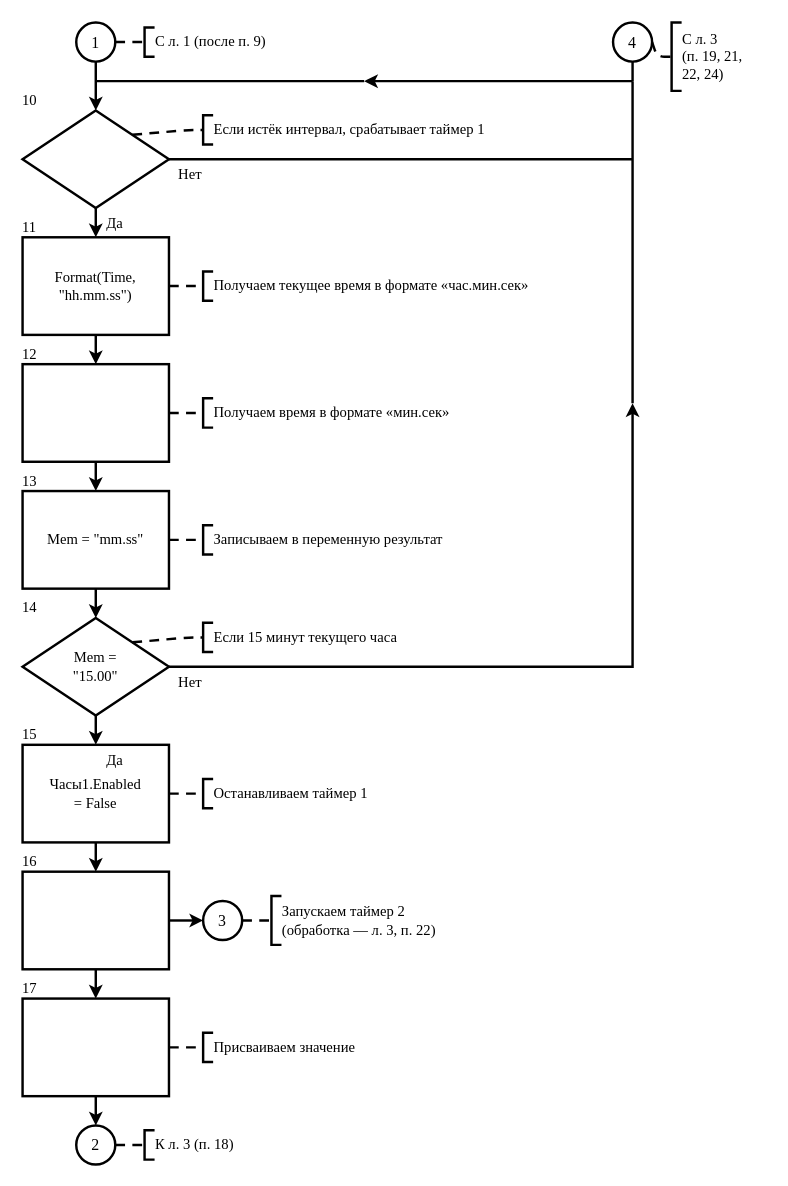
Image size: 788x1186. Some labels were removed from this diagram. Each missing label, with the centre of its shape:
MemPath = "C:\Program Files\ FreeMemory\ FreeMemory.exe": [95,1047]
Mid("hh.mm.ss", 4, 5): [95,412]
Часы1: [95,159]
Часы2.Enabled = True: [95,920]
